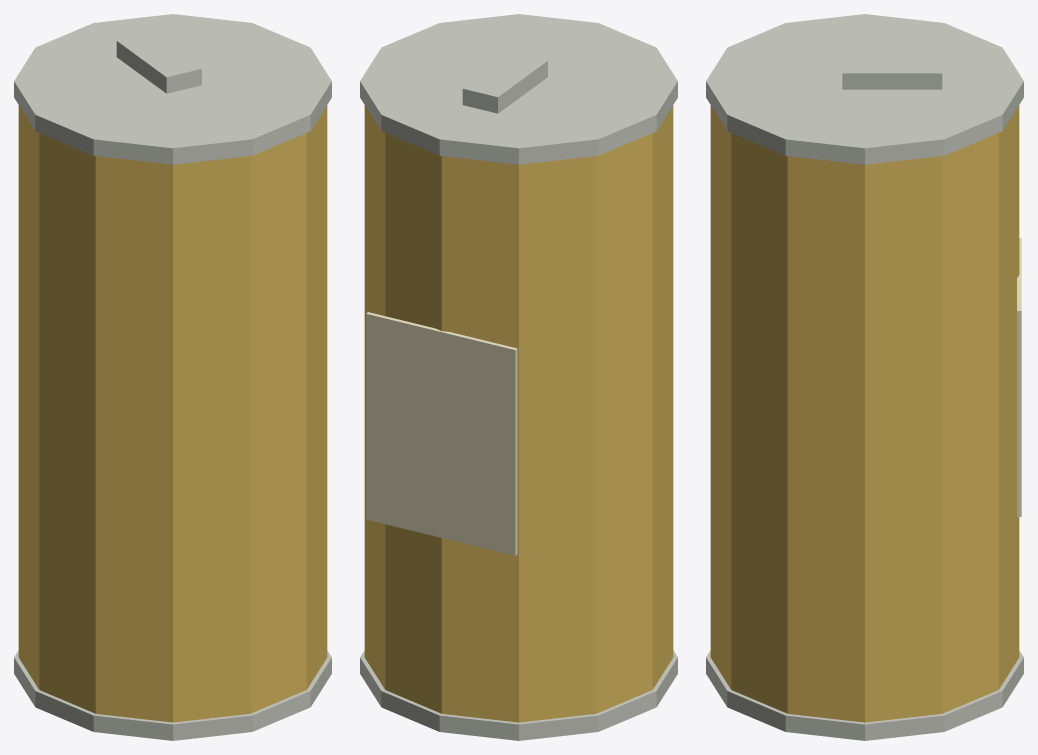
Rendered from Beer.fbx.
3 renders of one model, left to right at view 1: azimuth 30°, elevation 25°; view 2: azimuth 150°, elevation 25°; view 3: azimuth 270°, elevation 25°, orthographic.
Parts seen in each view (by area): view 1: Can, Rim0.07, Rim-0.07, Tab; view 2: Can, Rim0.07, Label, Rim-0.07, Tab; view 3: Can, Rim0.07, Rim-0.07, Tab, Label.
Part boxes in pixels (x1,y1,x2,y2): Can: (18,105,327,722); Rim0.07: (14,14,331,164); Rim-0.07: (14,650,331,740); Tab: (116,32,201,93); Can: (364,105,673,722); Rim0.07: (360,14,677,164); Label: (366,312,517,555); Rim-0.07: (360,650,677,740); Tab: (462,52,547,113); Can: (710,105,1019,722); Rim0.07: (706,14,1023,164); Rim-0.07: (706,650,1023,740); Tab: (842,56,942,89); Label: (1017,238,1021,516).
Bounding box in the file's own units: 0.07 × 0.148 × 0.07.
